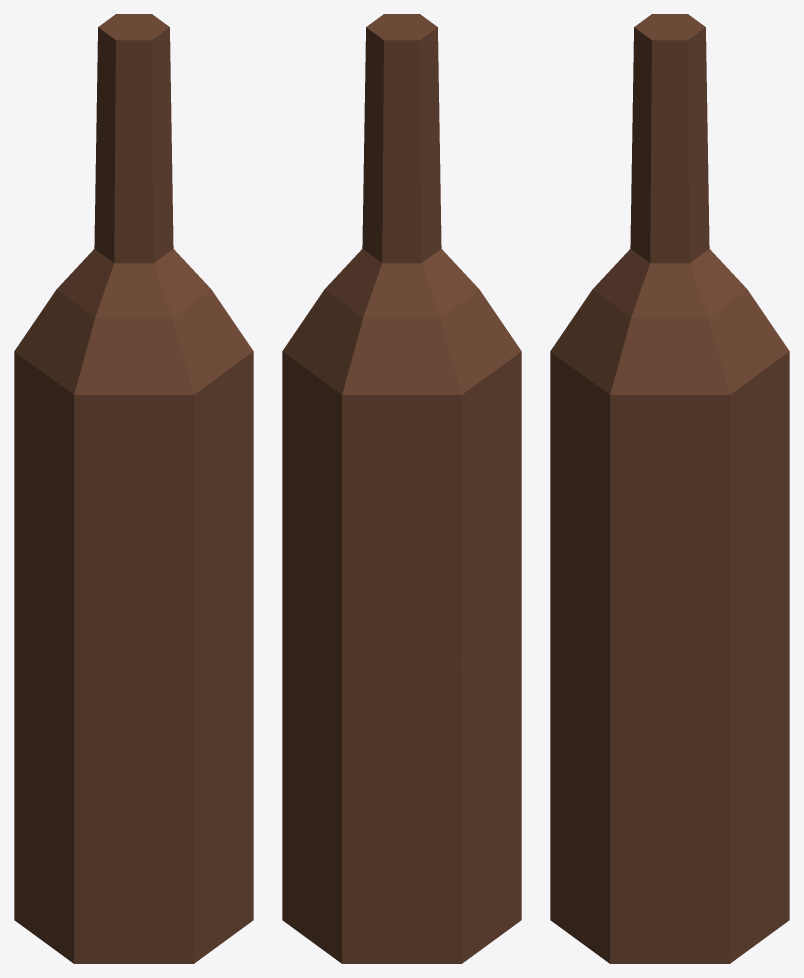
File: bottle2.fbx
3 renders of one model, left to right at view 1: azimuth 30°, elevation 25°; view 2: azimuth 150°, elevation 25°; view 3: azimuth 270°, elevation 25°, orthographic.
Parts seen in each view (by area): view 1: Cylinder.001, Cylinder.001_cell.005, Cylinder.001_cell.003, Cylinder.001_cell.006, Cylinder.001_cell.004, Cylinder.001_cell.008, Cylinder.001_cell.007, Cylinder.001_cell, Cylinder.001_cell.009; view 2: Cylinder.001, Cylinder.001_cell.001, Cylinder.001_cell, Cylinder.001_cell.003, Cylinder.001_cell.009, Cylinder.001_cell.002, Cylinder.001_cell.006, Cylinder.001_cell.008, Cylinder.001_cell.005; view 3: Cylinder.001, Cylinder.001_cell.005, Cylinder.001_cell.006, Cylinder.001_cell, Cylinder.001_cell.001, Cylinder.001_cell.002, Cylinder.001_cell.004, Cylinder.001_cell.008, Cylinder.001_cell.007, Cylinder.001_cell.009.
Boxes of the visible parts, x1,y1,x2,y2 form: Cylinder.001: (14, 14, 253, 963); Cylinder.001_cell.005: (134, 344, 253, 689); Cylinder.001_cell.003: (14, 321, 132, 678); Cylinder.001_cell.006: (74, 658, 253, 963); Cylinder.001_cell.004: (95, 288, 247, 367); Cylinder.001_cell.008: (73, 140, 205, 313); Cylinder.001_cell.007: (115, 27, 171, 150); Cylinder.001_cell: (34, 259, 84, 329); Cylinder.001_cell.009: (98, 14, 159, 134); Cylinder.001: (282, 14, 521, 963); Cylinder.001_cell.001: (282, 637, 491, 963); Cylinder.001_cell: (282, 276, 457, 634); Cylinder.001_cell.003: (312, 397, 503, 668); Cylinder.001_cell.009: (364, 21, 429, 156); Cylinder.001_cell.002: (308, 142, 423, 313); Cylinder.001_cell.006: (492, 647, 521, 937); Cylinder.001_cell.008: (422, 145, 474, 303); Cylinder.001_cell.005: (282, 550, 311, 640); Cylinder.001: (550, 14, 789, 963); Cylinder.001_cell.005: (550, 321, 759, 699); Cylinder.001_cell.006: (550, 647, 669, 963); Cylinder.001_cell: (674, 289, 789, 627); Cylinder.001_cell.001: (671, 622, 789, 963); Cylinder.001_cell.002: (634, 173, 718, 421); Cylinder.001_cell.004: (572, 270, 649, 394); Cylinder.001_cell.008: (612, 139, 650, 309); Cylinder.001_cell.007: (632, 28, 669, 150); Cylinder.001_cell.009: (671, 14, 706, 148).
Size of the model in its own units: 20.73 by 85.34 by 17.95.
